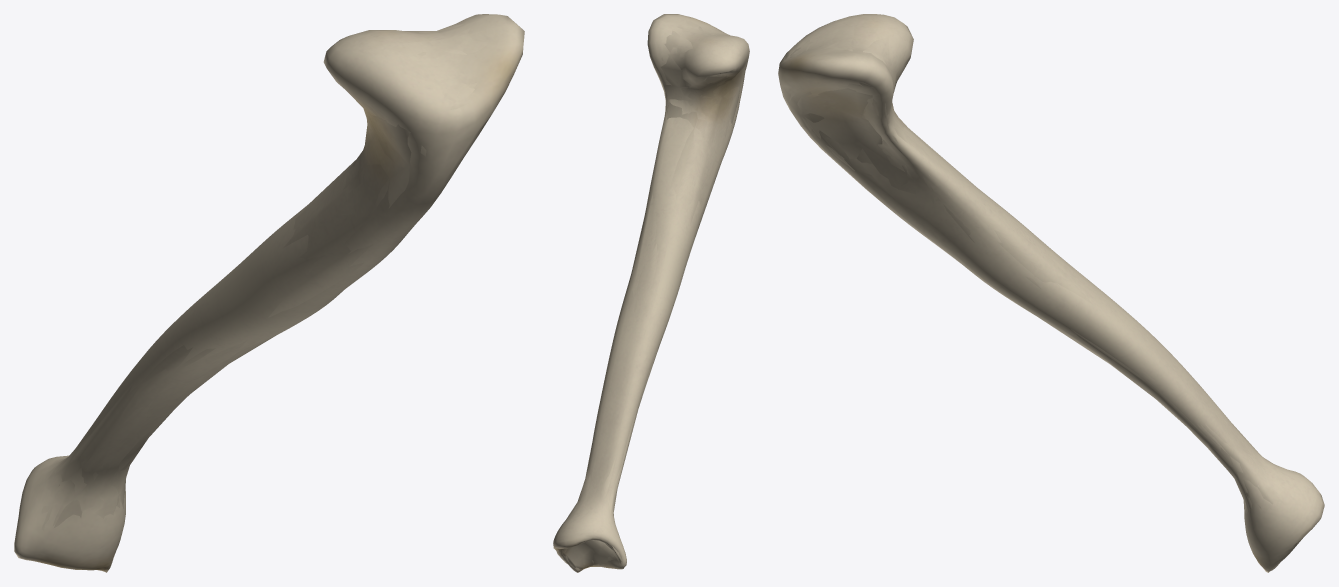
Rendered from R Tibia.fbx.
The picture shows the model from 3 angles, left to right: view 1: azimuth 30°, elevation 25°; view 2: azimuth 150°, elevation 25°; view 3: azimuth 270°, elevation 25°; orthographic projection. The views are drawn at different scales.
Parts seen in each view (by area): view 1: R Tibia high, R Tibia low, R Tibia; view 2: R Tibia high, R Tibia low, R Tibia; view 3: R Tibia high, R Tibia low, R Tibia.
Part boxes in pixels (box(x1,y1,x2,y2)): R Tibia high: box(14, 14, 524, 572); R Tibia low: box(54, 24, 474, 527); R Tibia: box(30, 28, 487, 570); R Tibia high: box(553, 14, 749, 572); R Tibia low: box(557, 26, 746, 569); R Tibia: box(556, 20, 742, 569); R Tibia high: box(778, 14, 1324, 572); R Tibia low: box(789, 32, 1297, 543); R Tibia: box(785, 33, 1291, 569).
Size of the model in its own units: 10.41 by 31.45 by 27.7.
